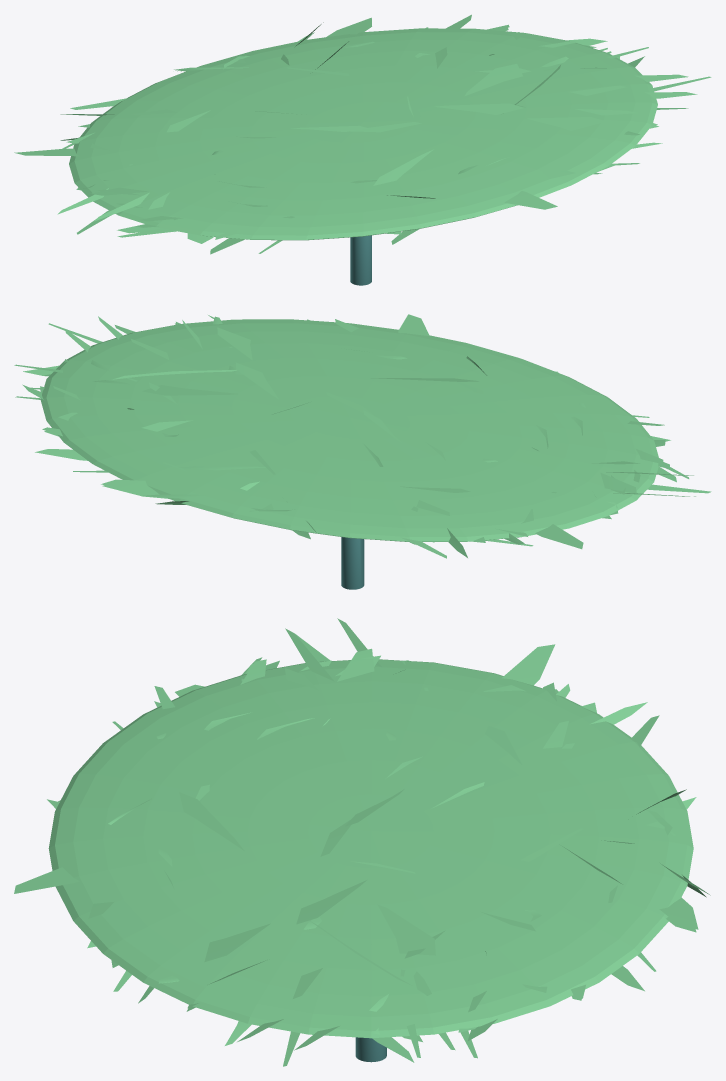
File: Tree1.fbx
3 views of the same model, one above another, from view 1: azimuth 30°, elevation 25°; view 2: azimuth 150°, elevation 25°; view 3: azimuth 270°, elevation 25° (orthographic). The views are drawn at different scales.
Visible parts, largest first — view 1: Leaves.008, Tree, Leaves.008|Leaf|Dupli|81, Leaves.008|Leaf|Dupli|73, Leaves.008|Leaf|Dupli|841, Leaves.008|Leaf|Dupli|489, Leaves.008|Leaf|Dupli|969; view 2: Leaves.008, Tree, Leaves.008|Leaf|Dupli|81, Leaves.008|Leaf|Dupli|65, Leaves.008|Leaf|Dupli|169, Leaves.008|Leaf|Dupli|73, Leaves.008|Leaf|Dupli|841, Leaves.008|Leaf|Dupli|489; view 3: Leaves.008, Leaves.008|Leaf|Dupli|81, Leaves.008|Leaf|Dupli|65, Leaves.008|Leaf|Dupli|969, Leaves.008|Leaf|Dupli|489, Leaves.008|Leaf|Dupli|73, Leaves.008|Leaf|Dupli|841.
Part boxes in pixels (x1,y1,x2,y2): Leaves.008: [69, 28, 657, 240]; Tree: [350, 235, 371, 285]; Leaves.008|Leaf|Dupli|81: [465, 64, 522, 95]; Leaves.008|Leaf|Dupli|73: [527, 117, 606, 130]; Leaves.008|Leaf|Dupli|841: [434, 103, 524, 114]; Leaves.008|Leaf|Dupli|489: [504, 191, 557, 209]; Leaves.008|Leaf|Dupli|969: [373, 149, 433, 185]; Leaves.008: [40, 319, 658, 541]; Tree: [341, 537, 364, 589]; Leaves.008|Leaf|Dupli|81: [142, 385, 237, 395]; Leaves.008|Leaf|Dupli|65: [535, 524, 583, 549]; Leaves.008|Leaf|Dupli|169: [101, 479, 159, 495]; Leaves.008|Leaf|Dupli|73: [217, 327, 252, 359]; Leaves.008|Leaf|Dupli|841: [235, 362, 278, 399]; Leaves.008|Leaf|Dupli|489: [398, 314, 429, 335]; Leaves.008: [48, 659, 693, 1038]; Leaves.008|Leaf|Dupli|81: [377, 904, 435, 955]; Leaves.008|Leaf|Dupli|65: [502, 644, 555, 685]; Leaves.008|Leaf|Dupli|969: [179, 792, 244, 850]; Leaves.008|Leaf|Dupli|489: [14, 867, 79, 893]; Leaves.008|Leaf|Dupli|73: [204, 923, 270, 962]; Leaves.008|Leaf|Dupli|841: [296, 880, 366, 924].
Bounding box in the file's own units: 13356 × 3219 × 8889.
